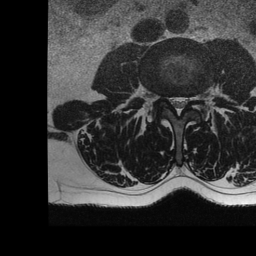CCS_normal: (174, 91, 181, 121)
LFS_stenosis: (188, 86, 195, 108)
LLS_stenosis: (180, 91, 187, 113)
RFS_severe_stenosis: (159, 88, 167, 105)
RLS_stenosis: (167, 91, 174, 114)
